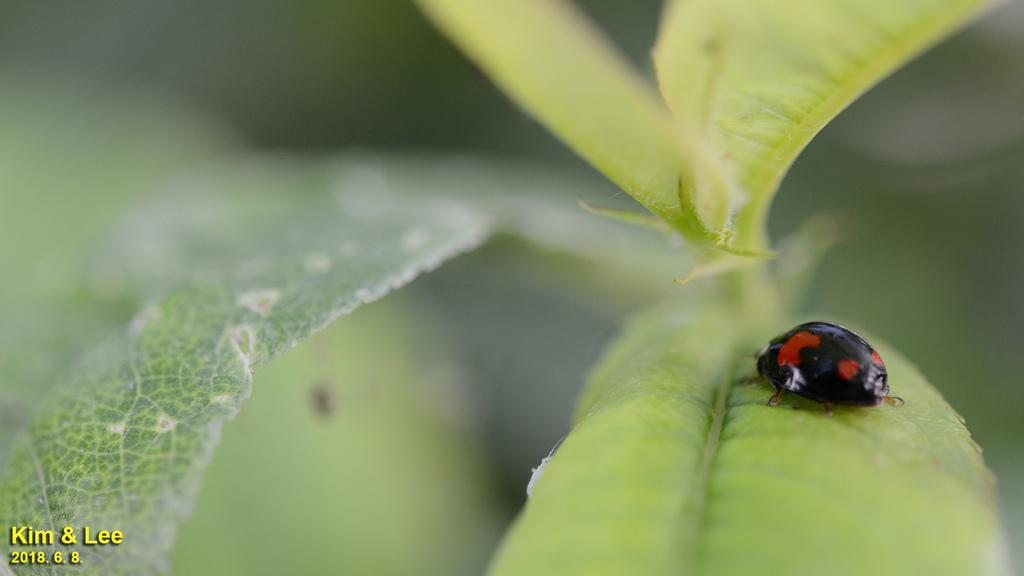ladybug: (738, 319, 909, 421)
